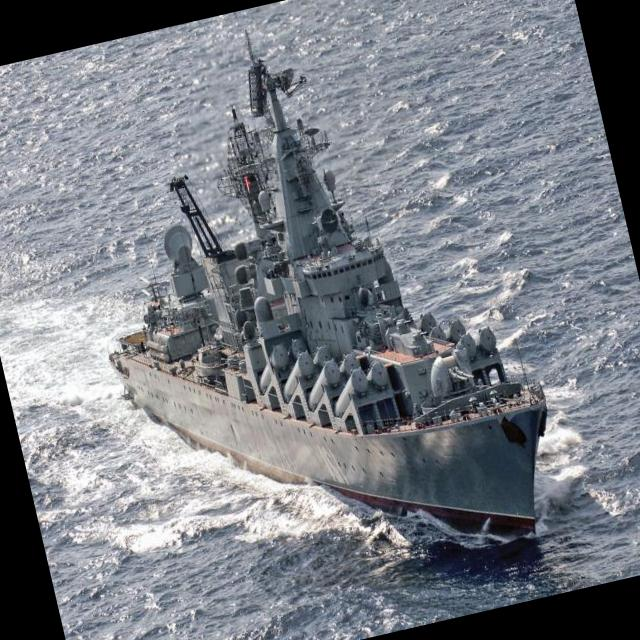Military: (110, 40, 547, 541)
